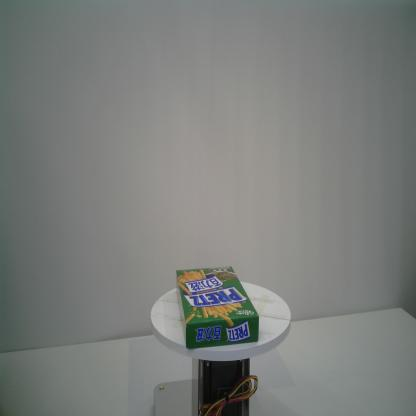Dessert: (175, 266, 260, 350)
